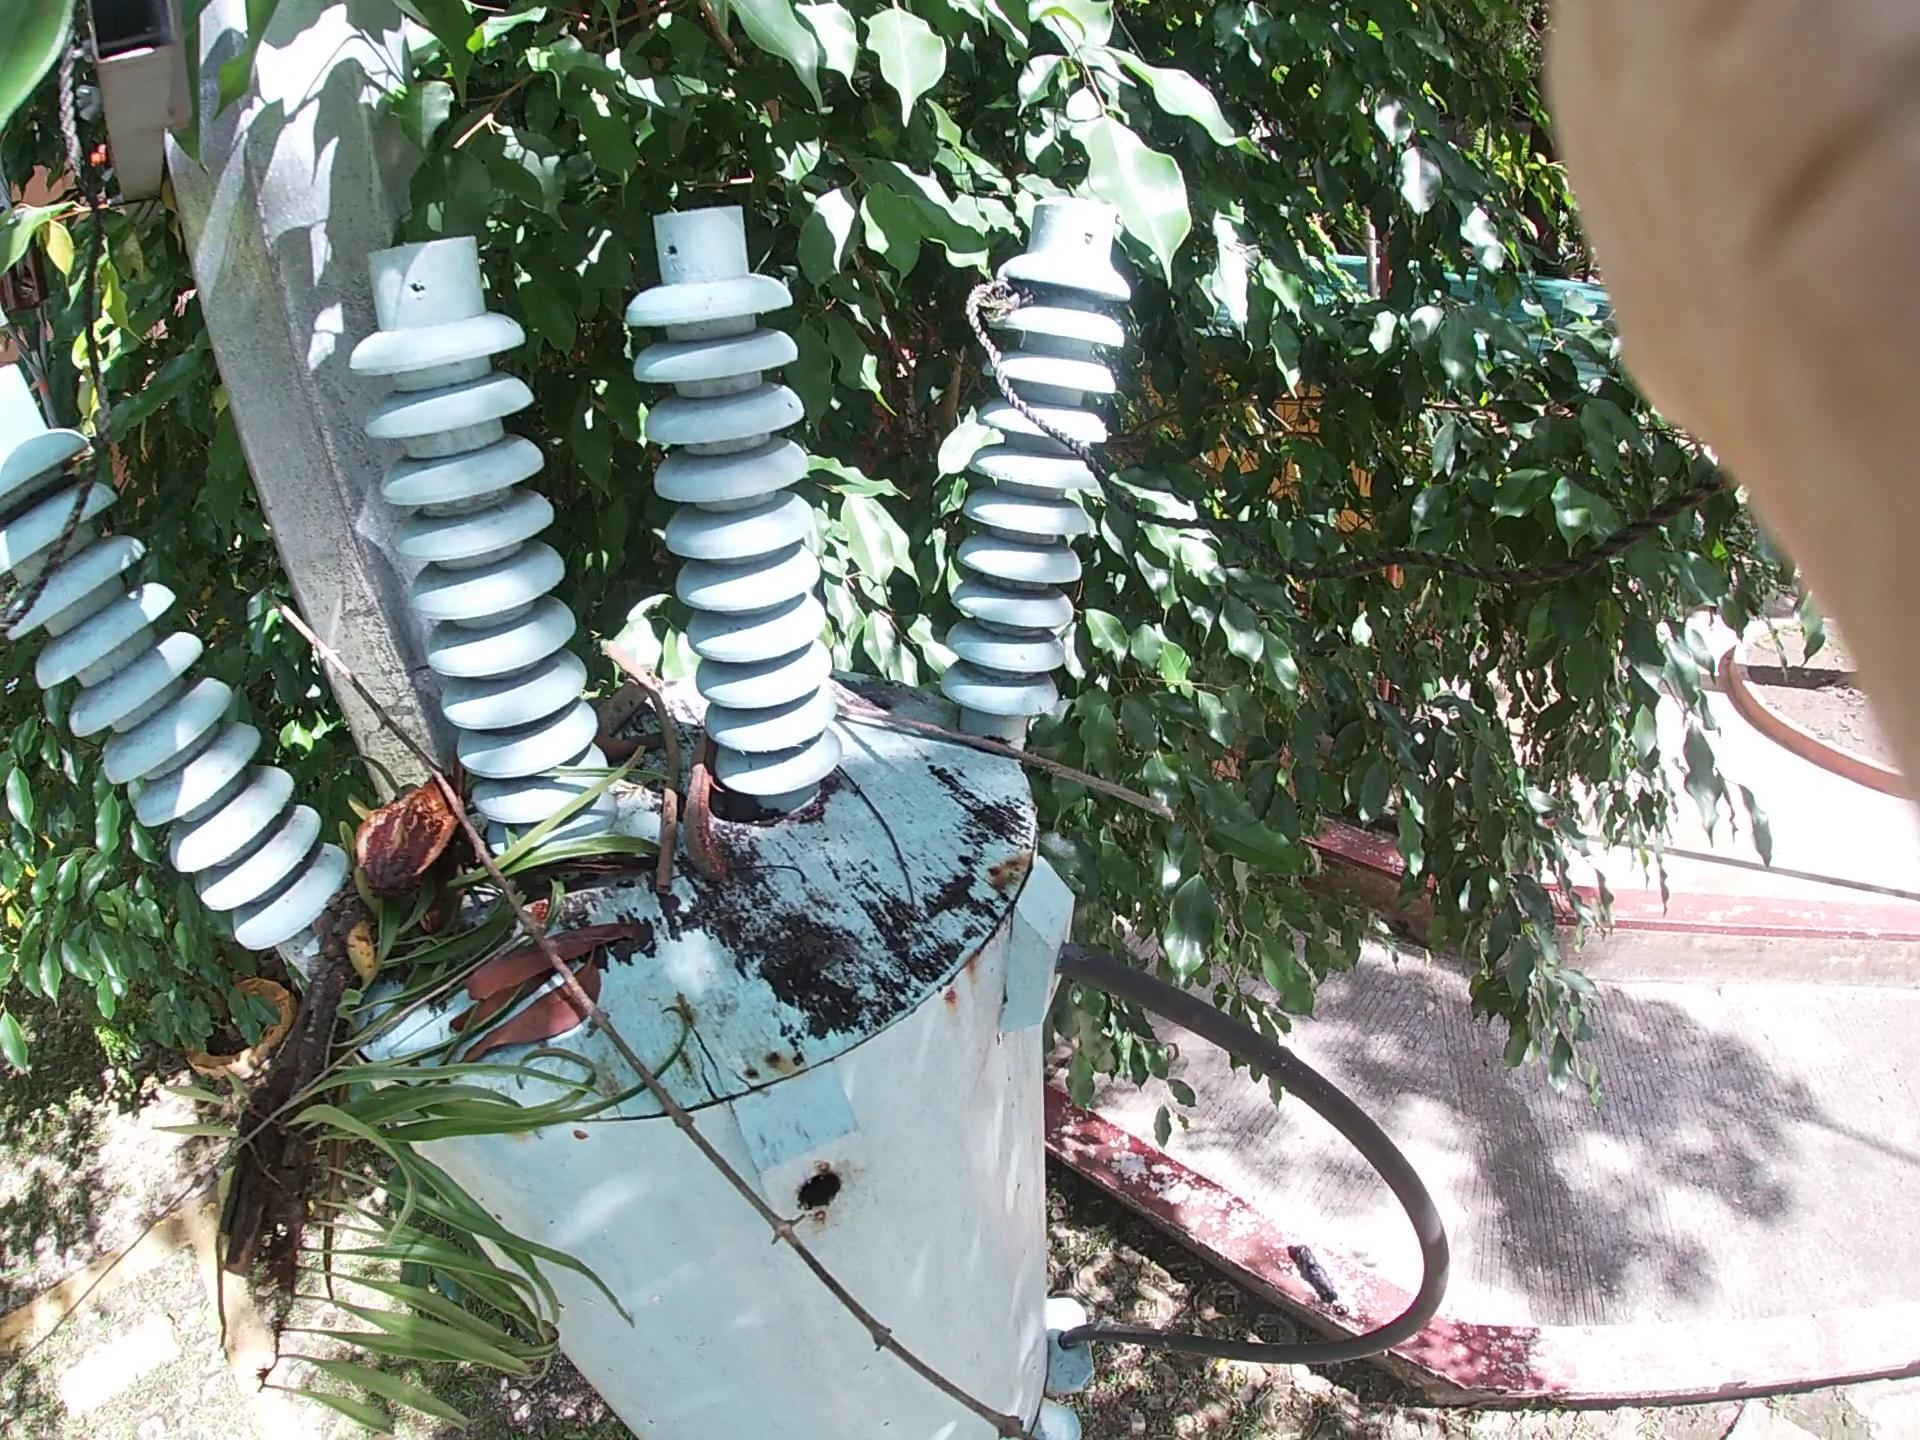branch with leaves: (296, 635, 472, 1240)
leaf: (401, 871, 668, 1097)
mahogany fruit: (641, 664, 773, 939), (319, 756, 508, 891)
tree branch: (319, 597, 839, 1274), (819, 734, 1225, 853), (623, 655, 720, 936)
